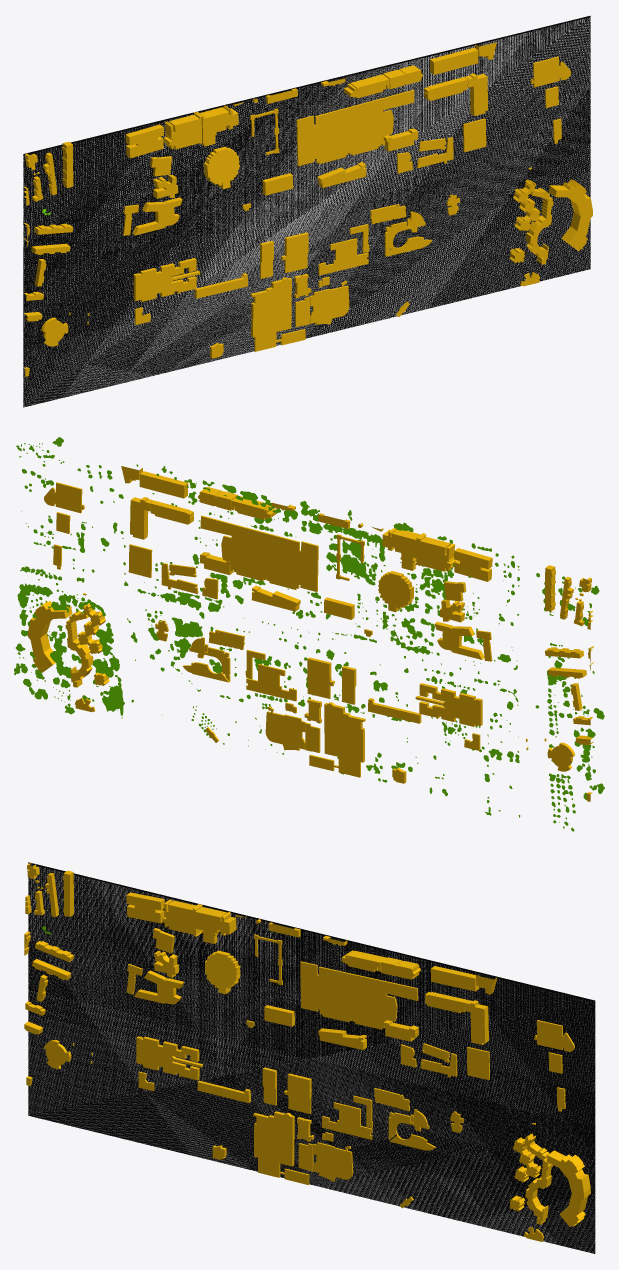
The model's file is existing_trees_10.glb.
3 renders of one model, top to bottom at view 1: azimuth 30°, elevation 25°; view 2: azimuth 150°, elevation 25°; view 3: azimuth 330°, elevation 25°, orthographic.
Visible parts, largest first — view 1: Layer 04, base, existing_building - Copy; view 2: existing_building - Copy, treesurface; view 3: Layer 04, base, existing_building - Copy.
Boxes of the visible parts, x1,y1,x2,y2 form: Layer 04: [23, 15, 590, 407]; base: [23, 17, 590, 406]; existing_building - Copy: [23, 42, 592, 376]; existing_building - Copy: [28, 466, 593, 801]; treesurface: [14, 437, 604, 831]; Layer 04: [28, 862, 595, 1253]; base: [28, 864, 595, 1252]; existing_building - Copy: [24, 863, 590, 1241].
Bounding box in the file's own units: 1033 × 458 × 20.85.
